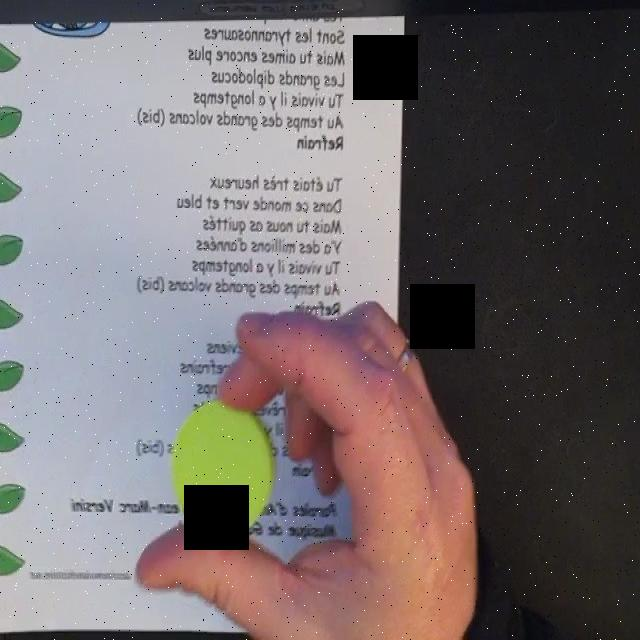round: (170, 400, 274, 542)
